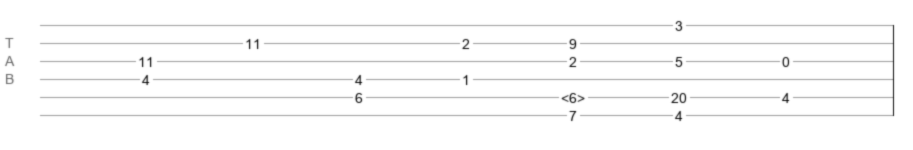0: (782, 54, 790, 64)
1: (462, 72, 470, 82)
11: (138, 54, 154, 64), (245, 36, 261, 46)
2: (462, 36, 470, 46), (569, 54, 577, 64)
20: (671, 90, 687, 100)
3: (675, 18, 683, 28)
4: (142, 72, 150, 82), (355, 72, 363, 82), (675, 108, 683, 118), (782, 90, 790, 100)
5: (675, 54, 683, 64)
6: (355, 90, 363, 100)
7: (569, 108, 577, 118)
9: (569, 36, 577, 46)
harmonic: (561, 90, 585, 100)
